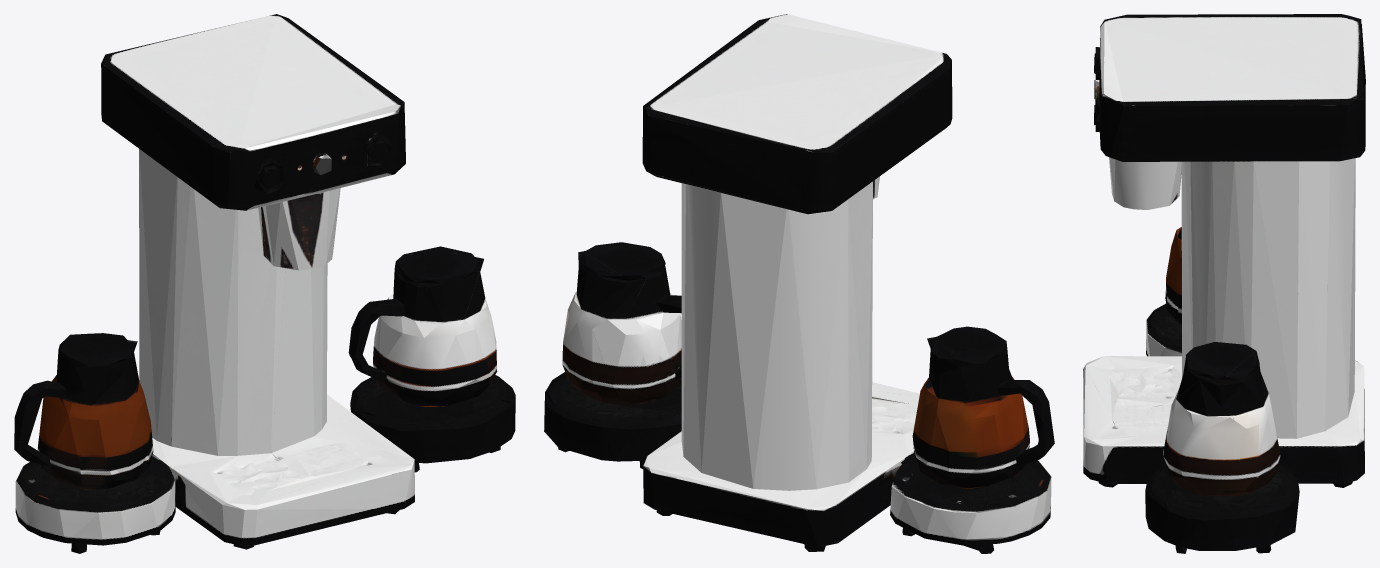
Rendered from mart-coffee-brewer.glb.
The picture shows the model from 3 angles, left to right: view 1: azimuth 30°, elevation 25°; view 2: azimuth 150°, elevation 25°; view 3: azimuth 270°, elevation 25°; orthographic projection. The views are drawn at different scales.
Bounding box in the file's own units: 1.89 × 1.49 × 0.9716.
Materials: 1 (1 with a texture image).
